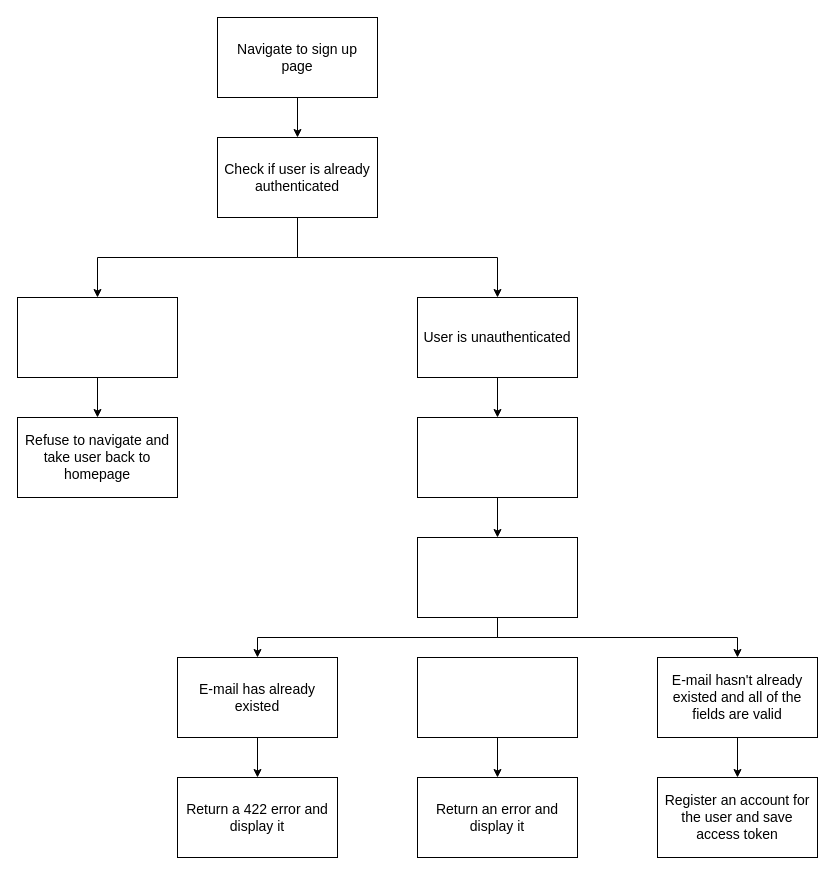
Image size: 835x875. Some labels were removed from this diagram. Here are the shapes that lost their labels. From the top down, the box of each, then its label:
(16, 296, 178, 378): User is authenticated
(416, 416, 578, 498): Accept the navigation and take user to the sign up account page
(416, 536, 578, 618): Submit all of the information
(416, 656, 578, 738): One of the fields are invalid
